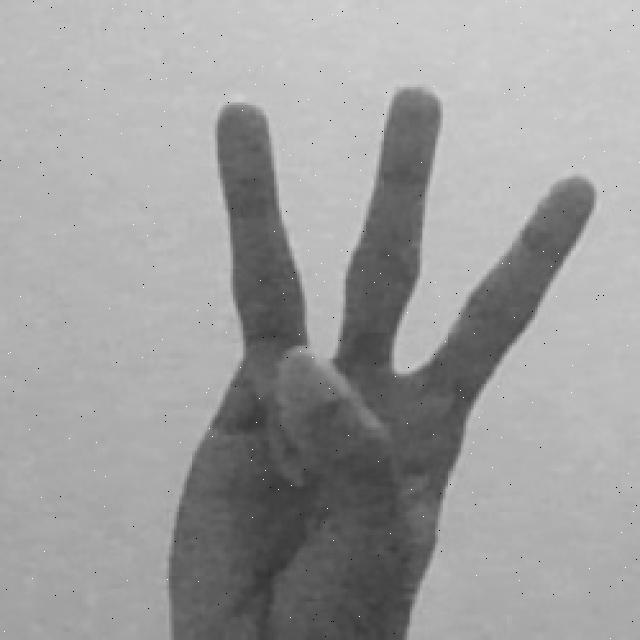W: (160, 76, 598, 640)
